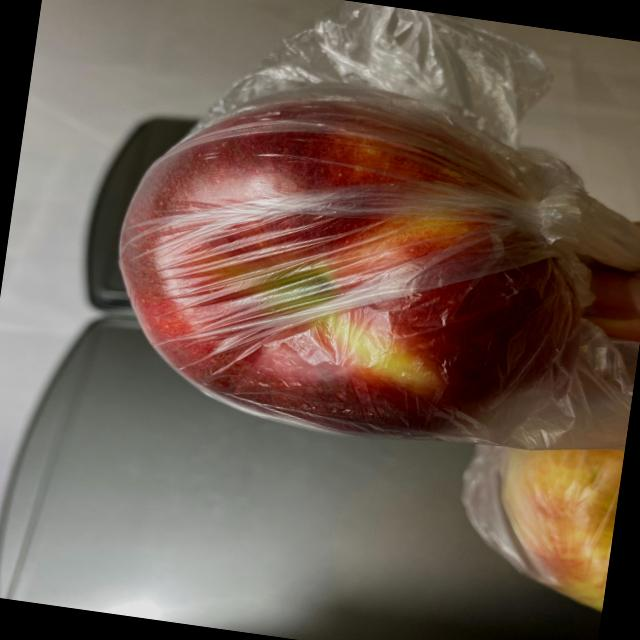apple: (78, 34, 640, 614)
